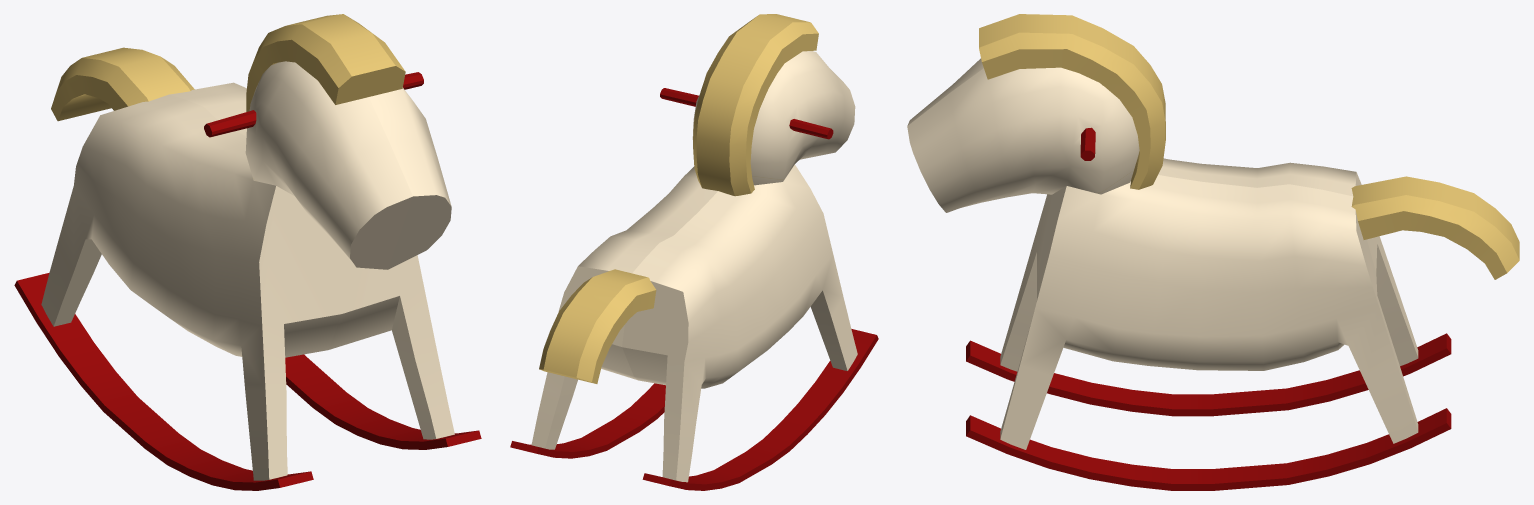
The model's file is Horse.fbx.
The picture shows the model from 3 angles, left to right: view 1: azimuth 30°, elevation 25°; view 2: azimuth 150°, elevation 25°; view 3: azimuth 270°, elevation 25°; orthographic projection. The views are drawn at different scales.
Parts seen in each view (by area): view 1: Horse; view 2: Horse; view 3: Horse.
Part boxes in pixels (x1=…): Horse: x1=14, y1=14, x2=481, y2=490; Horse: x1=510, y1=14, x2=878, y2=490; Horse: x1=907, y1=14, x2=1519, y2=490.
Size of the model in its own units: 126 by 264 by 346.
1 material, 1 textured.
